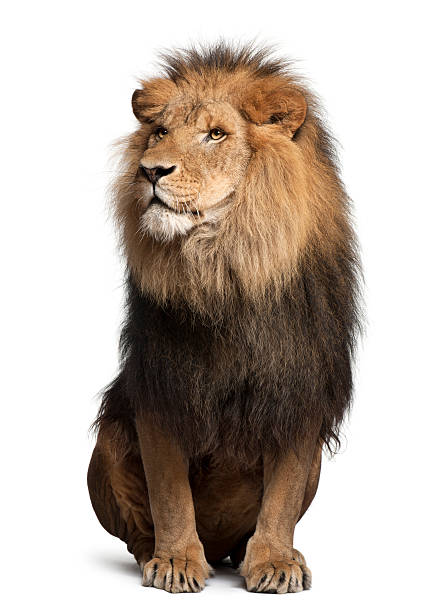lion: (82, 21, 398, 492)
